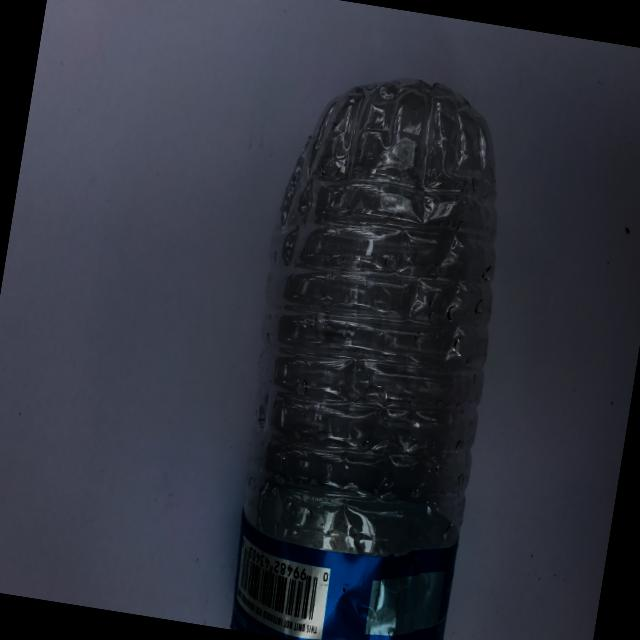Plastic: (177, 40, 576, 640)
